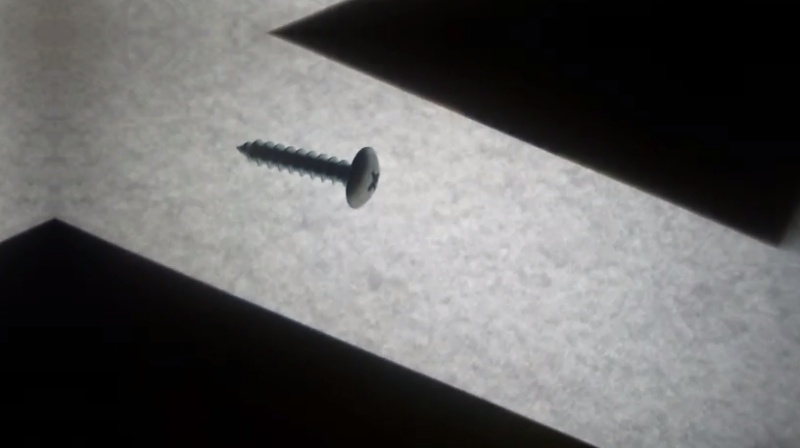S003: (232, 135, 384, 213)
